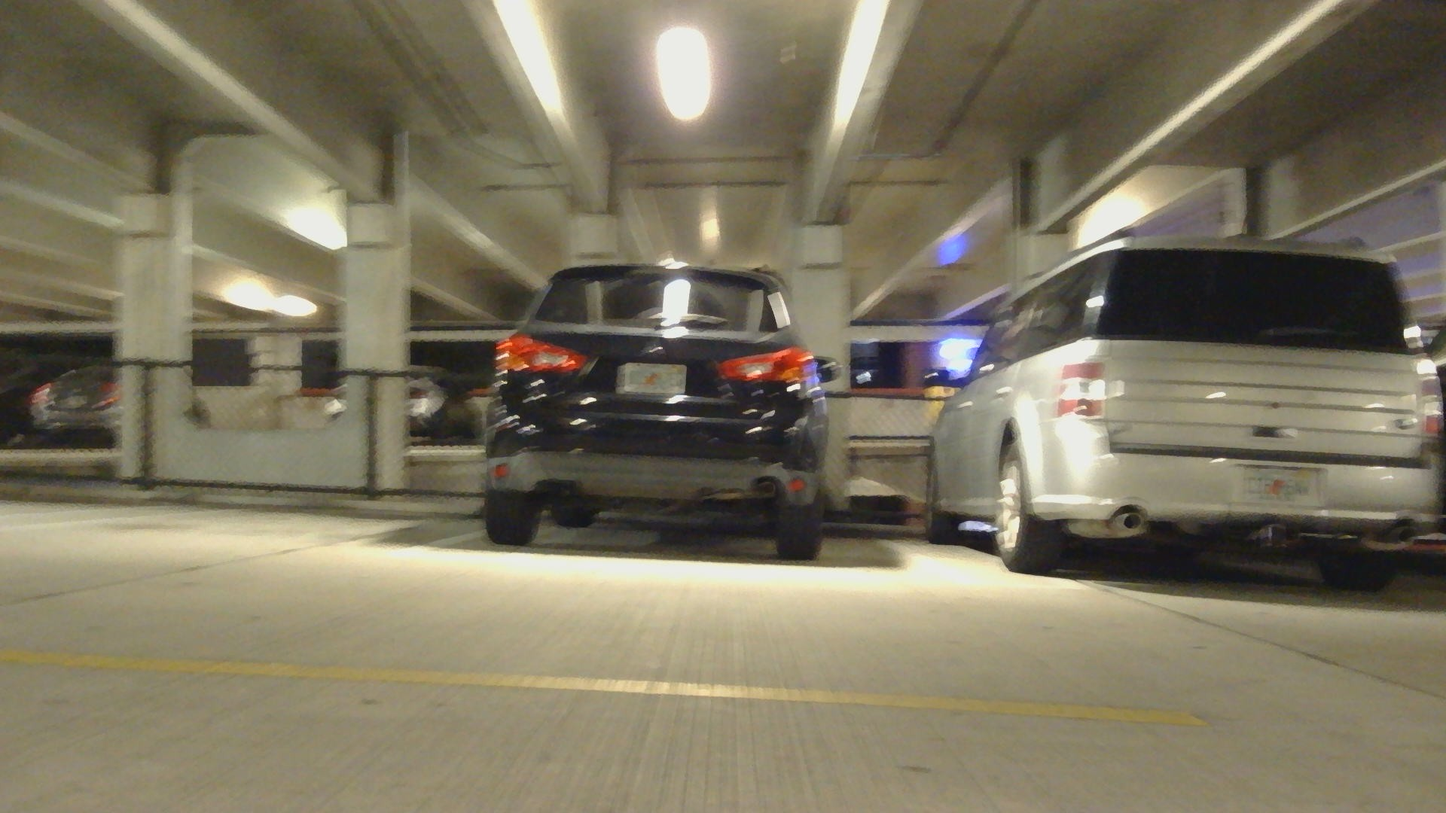empty_spot: (0, 401, 511, 542)
occupied_spot: (910, 219, 1446, 592), (477, 251, 840, 565)
